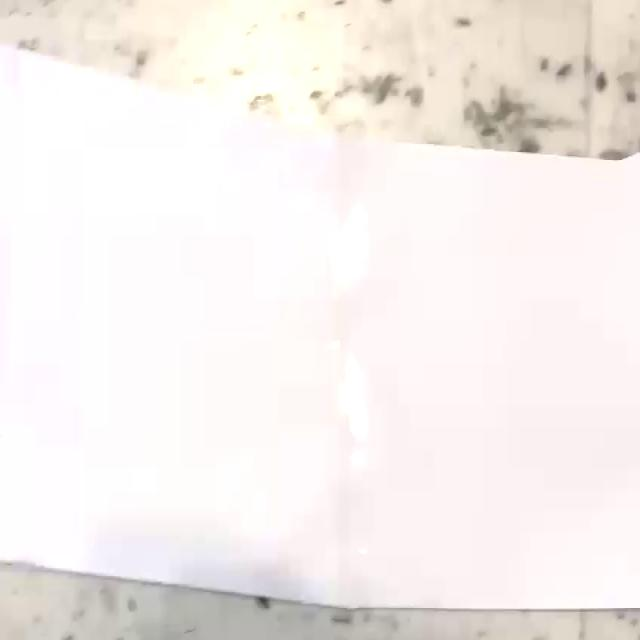road: (0, 45, 640, 608)
